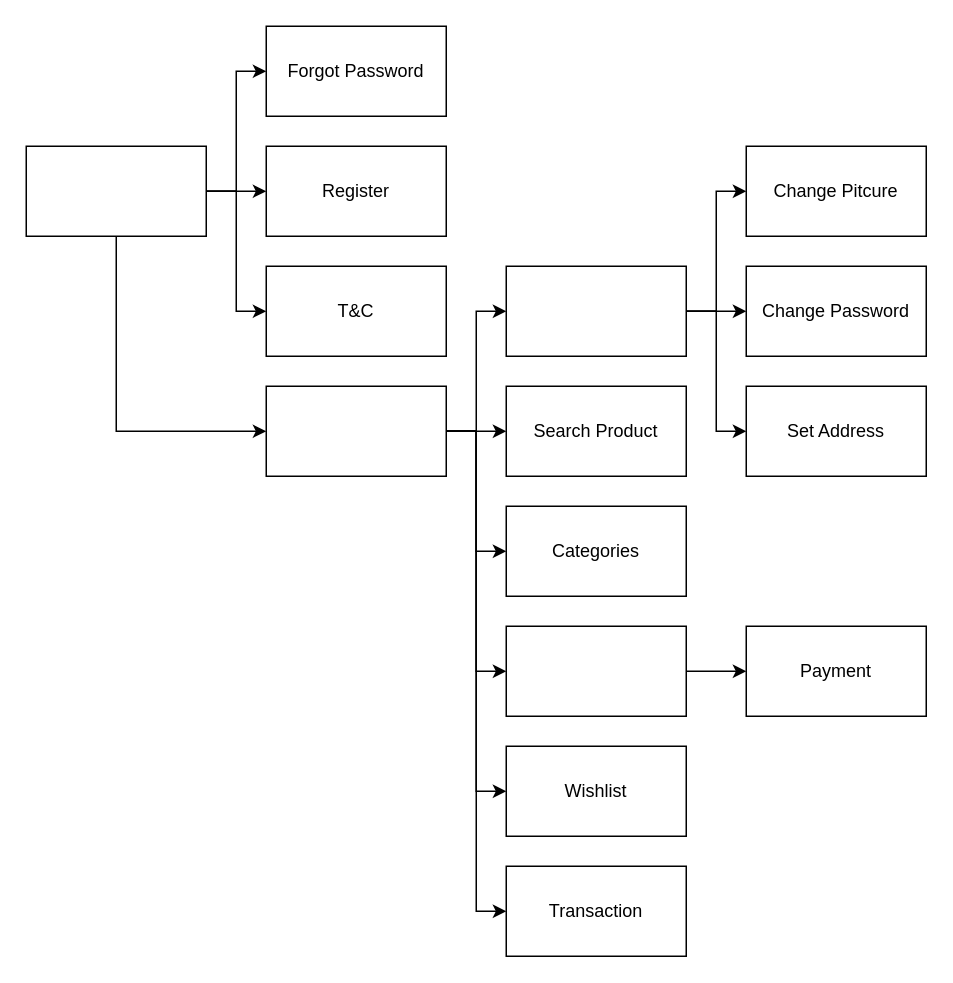
The diagram is 953 pixels wide and 983 high, and some of its shapes have lost their labels. The box of each missing label's shape, as (x1, y1, x2, y2) in pixels:
Cart: (505, 625, 686, 716)
Home Screen: (265, 385, 446, 476)
Login Screen: (25, 145, 206, 236)
Profile: (505, 265, 686, 356)
